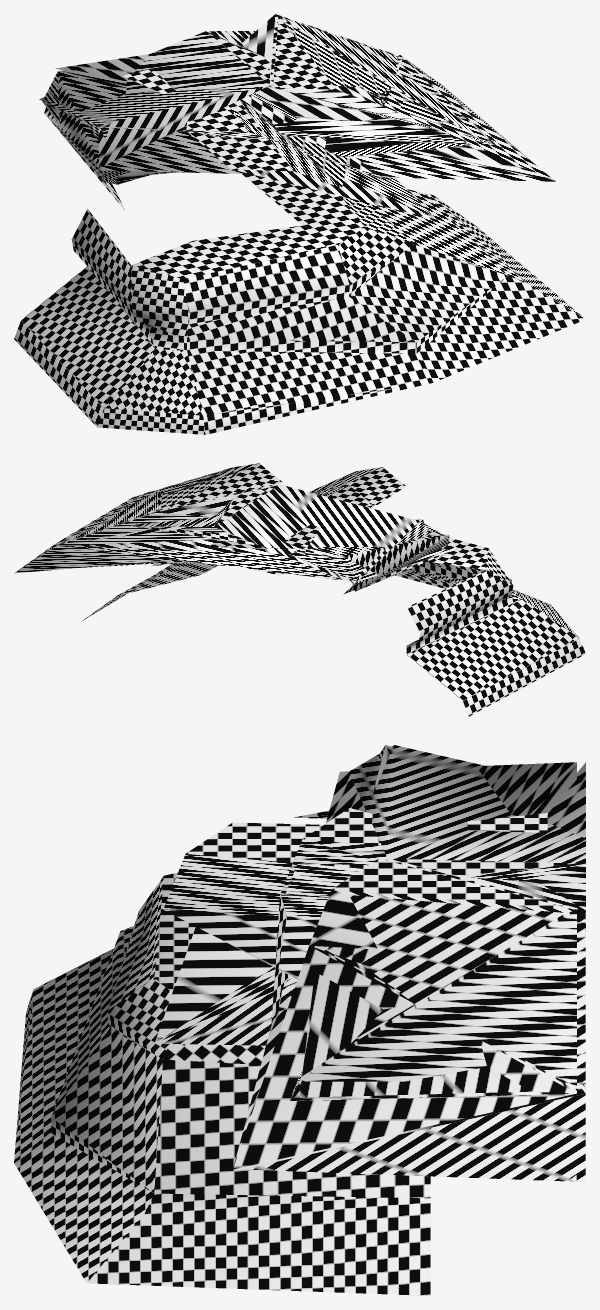
File: stst11.dae
The picture shows the model from 3 angles, top to bottom: view 1: azimuth 30°, elevation 25°; view 2: azimuth 150°, elevation 25°; view 3: azimuth 270°, elevation 25°; orthographic projection. The views are drawn at different scales.
Parts seen in each view (by area): view 1: stone1, stone5, stone2, stone4, stone3; view 2: stone1, stone2, stone5, stone4, stone3; view 3: stone1, stone2, stone5, stone4, stone3.
Boxes of the visible parts, x1,y1,x2,y2 form: stone1: (14,174,585,434); stone5: (42,16,555,210); stone2: (39,14,543,177); stone4: (186,100,436,219); stone3: (123,68,391,180); stone1: (81,537,585,716); stone2: (14,469,446,583); stone5: (19,463,458,594); stone4: (309,467,406,508); stone3: (151,486,373,566); stone1: (14,872,430,1295); stone2: (242,745,585,1181); stone5: (233,745,576,1181); stone4: (154,822,367,1045); stone3: (271,808,547,1023).
Bounding box in the file's own units: 20.5 × 14.25 × 7.89.
1 material, 1 textured.
